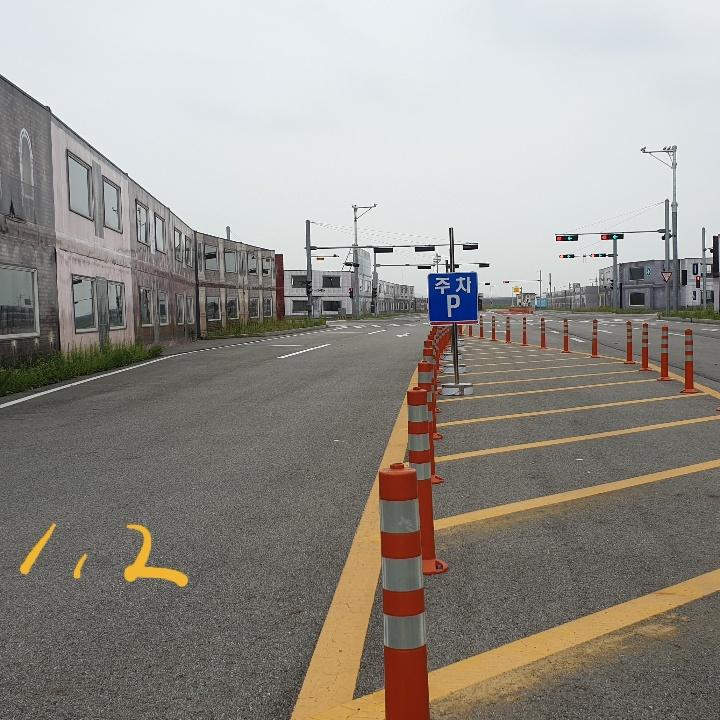parking: (443, 291, 465, 322)
